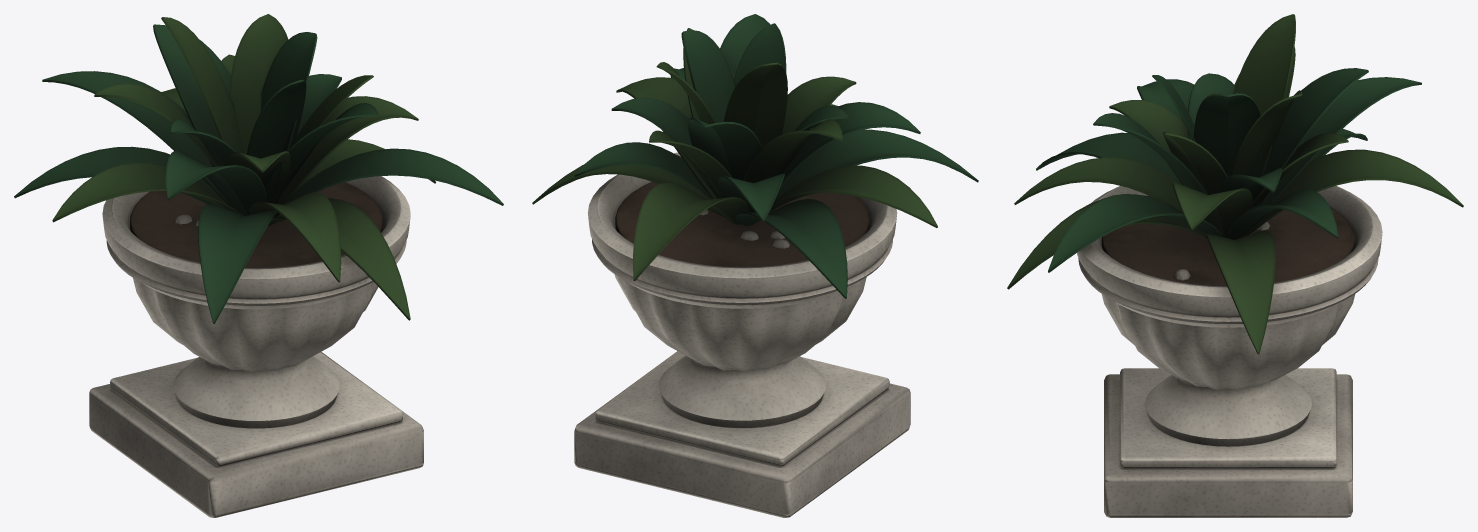
The model's file is PottedPlant.fbx.
3 renders of one model, left to right at view 1: azimuth 30°, elevation 25°; view 2: azimuth 150°, elevation 25°; view 3: azimuth 270°, elevation 25°, orthographic.
Parts seen in each view (by area): view 1: PottedPlant; view 2: PottedPlant; view 3: PottedPlant.
Boxes of the visible parts, bbox=[...] form: PottedPlant: bbox=[14, 14, 503, 517]; PottedPlant: bbox=[532, 14, 978, 517]; PottedPlant: bbox=[1007, 14, 1463, 517].
Bounding box in the file's own units: 283 × 291 × 285.
